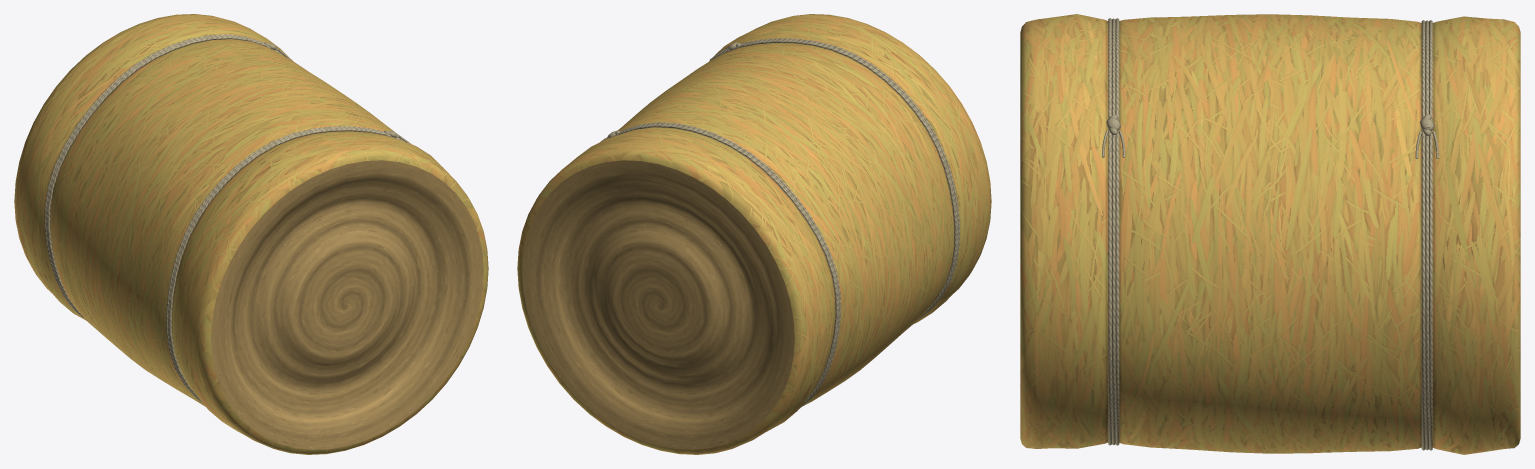
Rendered from haybale-crafted.glb.
The picture shows the model from 3 angles, left to right: view 1: azimuth 30°, elevation 25°; view 2: azimuth 150°, elevation 25°; view 3: azimuth 270°, elevation 25°; orthographic projection. The views are drawn at different scales.
Parts seen in each view (by area): view 1: haybale crafted; view 2: haybale crafted; view 3: haybale crafted.
Part boxes in pixels (<box>): haybale crafted: <box>14,14,488,454</box>; haybale crafted: <box>517,14,991,454</box>; haybale crafted: <box>1020,14,1520,454</box>.
Size of the model in its own units: 1.35 by 1.31 by 1.5.
Materials: 1 (1 with a texture image).
